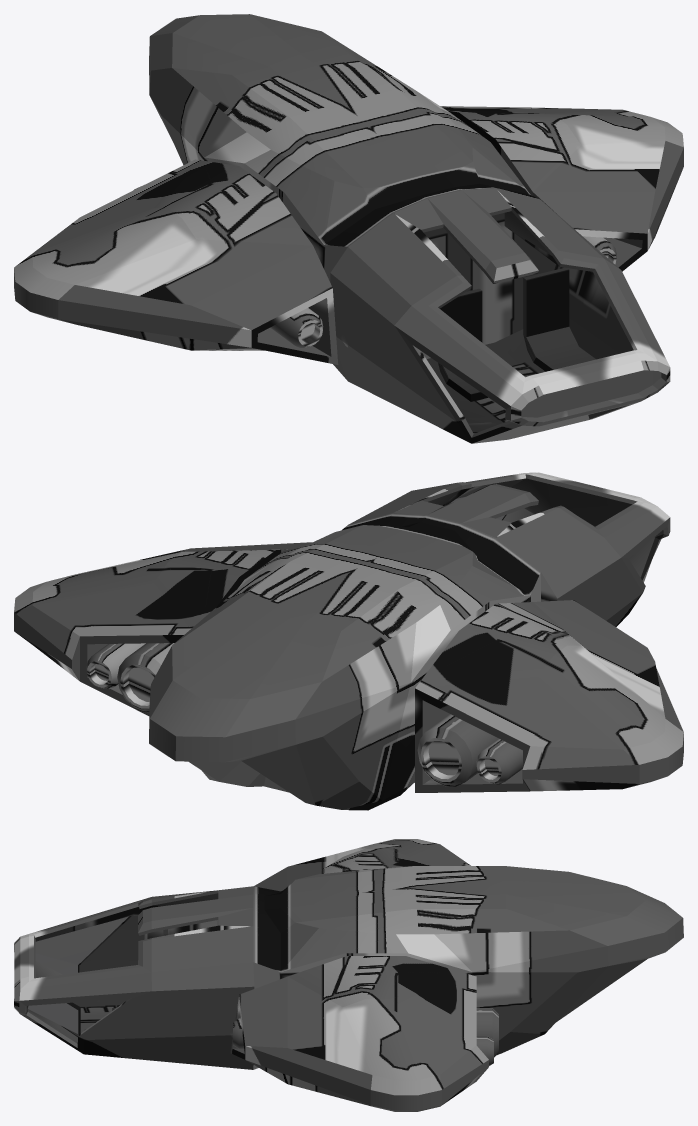
File: Yangtze Mk II.fbx
The picture shows the model from 3 angles, top to bottom: view 1: azimuth 30°, elevation 25°; view 2: azimuth 150°, elevation 25°; view 3: azimuth 270°, elevation 25°; orthographic projection. The views are drawn at different scales.
Visible parts, largest first — view 1: Yangtze_LOD0; view 2: Yangtze_LOD0; view 3: Yangtze_LOD0.
Part boxes in pixels (x1,y1,x2,y2): Yangtze_LOD0: [14, 14, 683, 443]; Yangtze_LOD0: [14, 472, 683, 810]; Yangtze_LOD0: [14, 839, 683, 1111].
Size of what is drawn, in the model's own units: 1070 by 312 by 1188.
